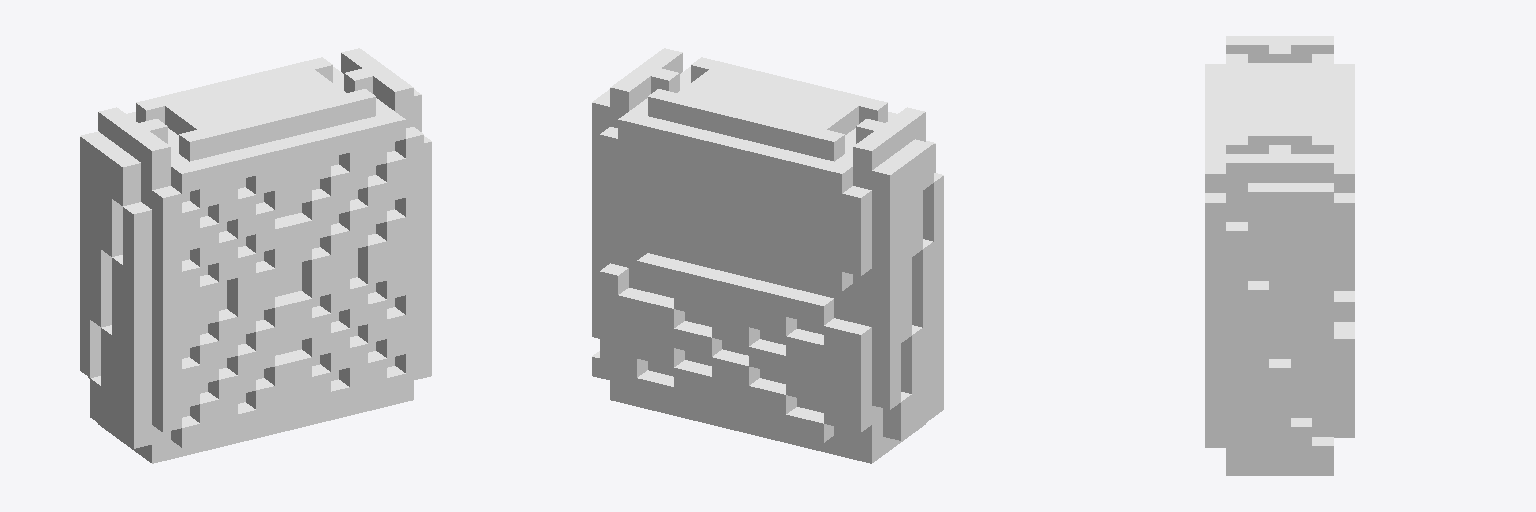
File: RoboZomboChestNoCol.obj
3 renders of one model, left to right at view 1: azimuth 30°, elevation 25°; view 2: azimuth 150°, elevation 25°; view 3: azimuth 270°, elevation 25°, orthographic.
Bounding box in the file's own units: 16 × 16 × 7.